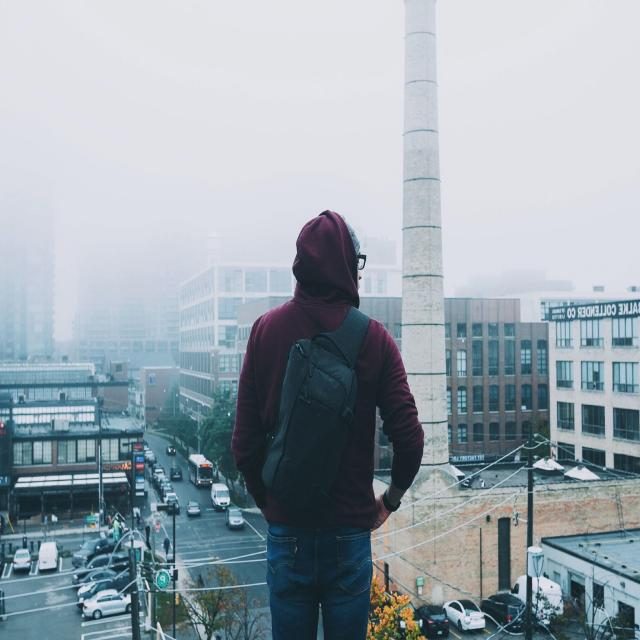adult: (235, 209, 424, 640)
